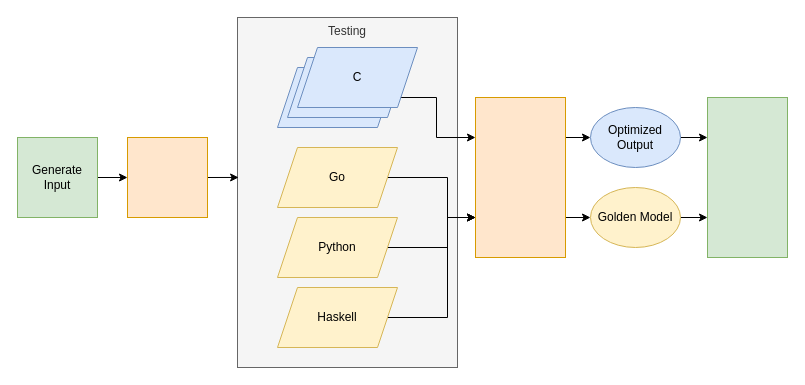
Some shapes in this 805 by 385 pixel diagram are drawn without their labels. The shapes that lost their labels are listed below. From the top down, each one's centre as x and y in pixels, then its label:
the point at 167,177: Convert Input
the point at 520,177: Convert Output
the point at 747,177: Compare Output
